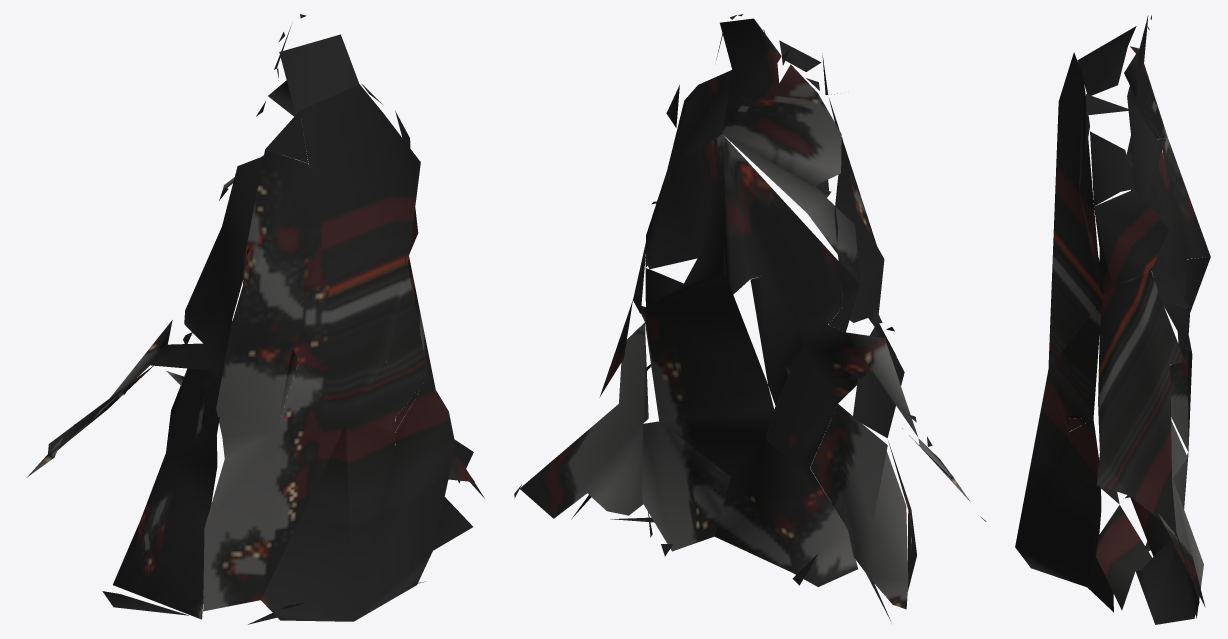
The picture shows the model from 3 angles, left to right: view 1: azimuth 30°, elevation 25°; view 2: azimuth 150°, elevation 25°; view 3: azimuth 270°, elevation 25°; orthographic projection. The views are drawn at different scales.
Visible parts, largest first — view 1: body.002; view 2: body.002; view 3: body.002.
Part boxes in pixels (<box>): body.002: <box>26,14,484,624</box>; body.002: <box>514,14,986,621</box>; body.002: <box>1015,15,1210,624</box>.
Bounding box in the file's own units: 1.77 × 2.03 × 0.6619.
1 material, 1 textured.
